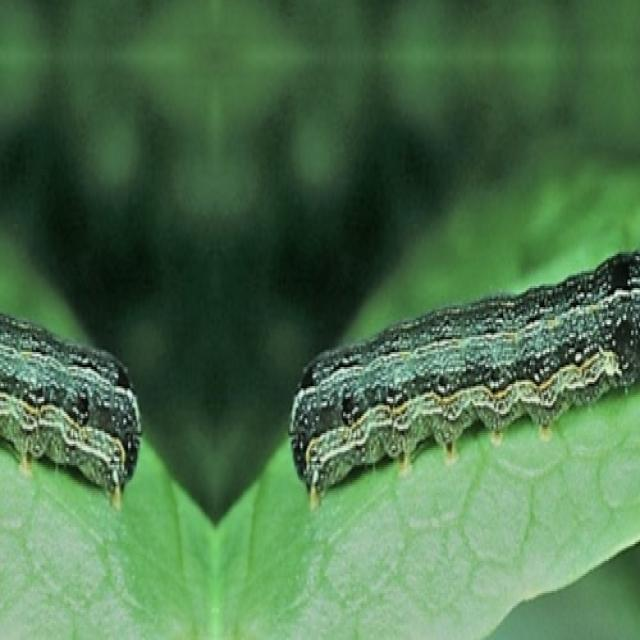armyworm: (288, 245, 639, 510), (0, 305, 142, 510)
